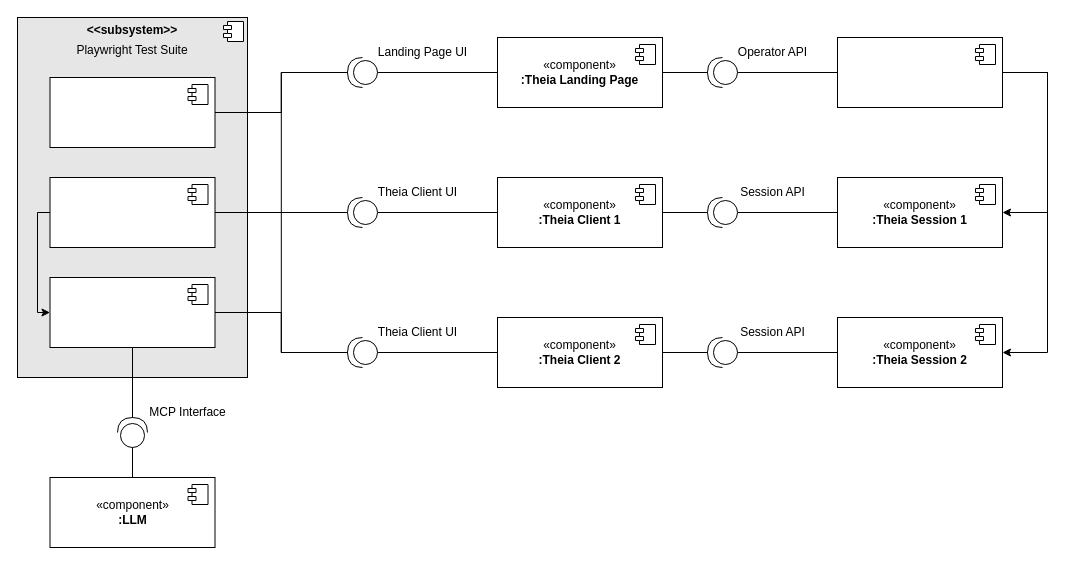
This 1073x565 diagram has some shape labels left out. Here are the shapes that lost their labels. From the top down, the box of each, then its label:
(836, 36, 1002, 108): «component» :Theia Operator
(49, 76, 215, 148): «component» :Functional Tests
(49, 176, 215, 248): «component» :Load Tests
(49, 276, 215, 348): «component» :MCP Programming
